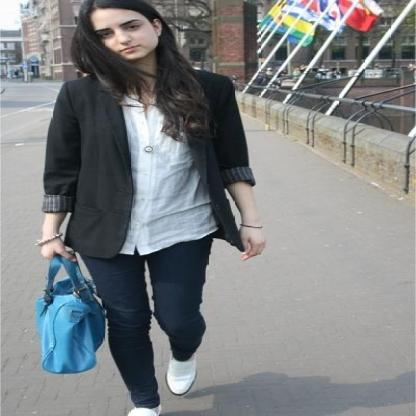bag: (35, 253, 112, 374)
jacket: (42, 71, 254, 267)
pants: (87, 225, 225, 407)
shirt: (121, 98, 217, 254)
shoe: (128, 360, 194, 416)
